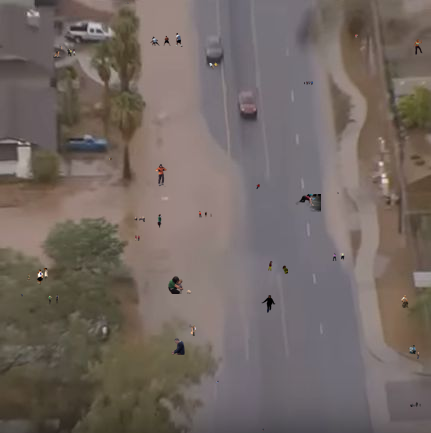Human: (294, 194, 321, 212), (150, 33, 183, 47), (168, 276, 192, 294), (27, 268, 48, 285), (53, 43, 76, 58), (266, 261, 288, 274), (155, 164, 167, 187), (261, 295, 276, 313), (171, 338, 185, 355), (413, 39, 423, 55), (398, 295, 409, 308), (48, 294, 59, 305), (331, 253, 345, 261), (207, 61, 219, 70), (199, 211, 212, 218), (189, 324, 196, 336), (157, 214, 162, 230), (408, 345, 416, 354), (133, 216, 145, 222), (410, 402, 422, 407), (135, 235, 142, 241), (304, 81, 313, 85), (417, 352, 421, 359), (256, 184, 260, 190), (355, 34, 358, 38), (124, 2, 129, 4), (216, 380, 219, 383), (20, 294, 23, 297), (109, 158, 112, 160), (262, 428, 264, 431), (337, 192, 339, 194)
